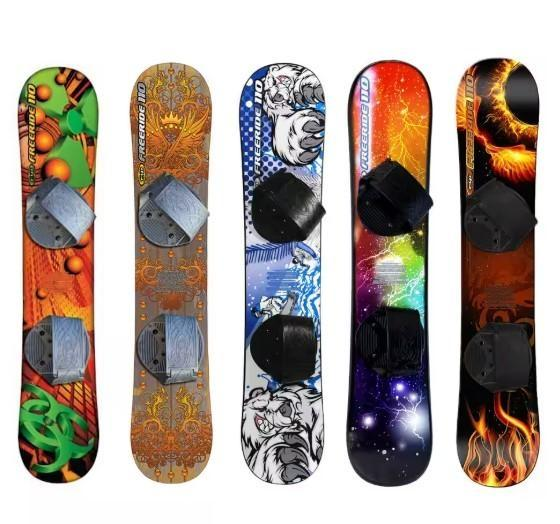Snowboard: (344, 48, 438, 494), (450, 48, 543, 490), (126, 49, 217, 491), (238, 50, 328, 488), (16, 48, 104, 494)
